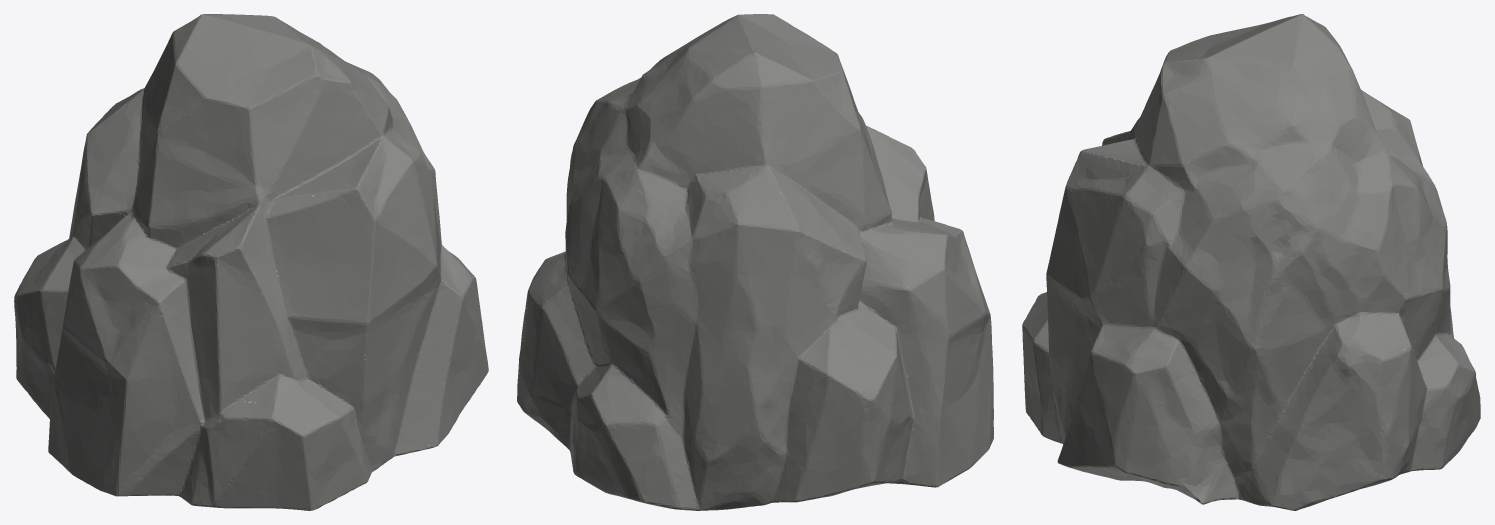
The model's file is Builder.fbx.
The picture shows the model from 3 angles, left to right: view 1: azimuth 30°, elevation 25°; view 2: azimuth 150°, elevation 25°; view 3: azimuth 270°, elevation 25°; orthographic projection. The views are drawn at different scales.
Visible parts, largest first — view 1: tmp3ko0qnxt.ply; view 2: tmp3ko0qnxt.ply; view 3: tmp3ko0qnxt.ply.
Part boxes in pixels (<box>): tmp3ko0qnxt.ply: <box>14,14,488,510</box>; tmp3ko0qnxt.ply: <box>517,14,993,510</box>; tmp3ko0qnxt.ply: <box>1022,14,1480,510</box>.
Size of the model in its own units: 192 by 196 by 195.
